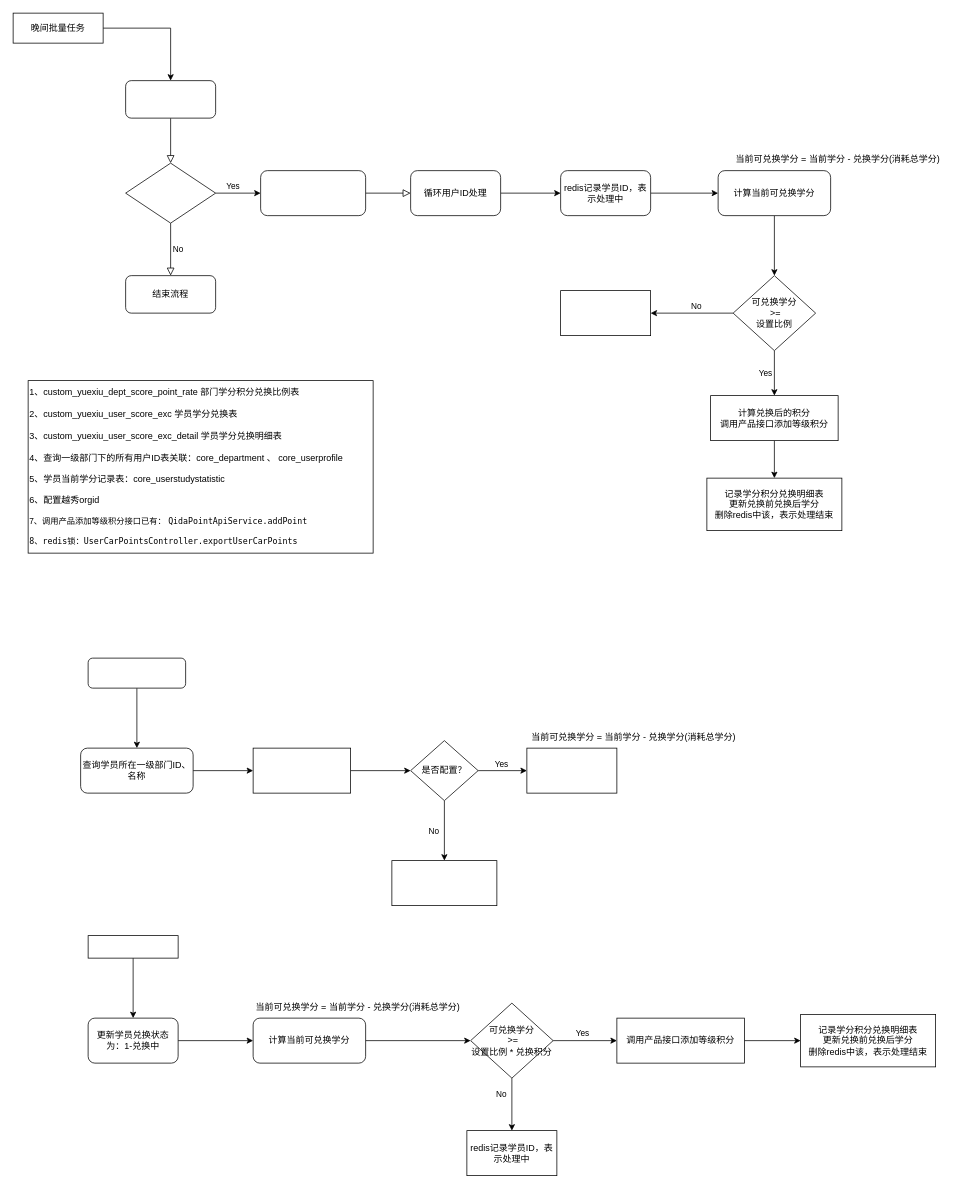
The diagram is 971 pixels wide and 1189 high, and some of its shapes have lost their labels. The shapes that lost their labels are listed below. From the top down, each one's centre as x and y in pixels, then its label:
At (170,99): "查询部门配置".
At (170,192): "是否有配置部门".
At (313,193): "分页查询部门下的人员 分页条数：500".
At (605,313): "删除redis中该key，表示处理结束".
At (136,672): "手动页面查询接口".
At (301,770): "查询一级部门兑换比例".
At (571,770): "查询可兑换学分".
At (444,883): "兑换部门、兑换比例、可兑换学分 返回空".
At (132,946): "确认兑换接口".
